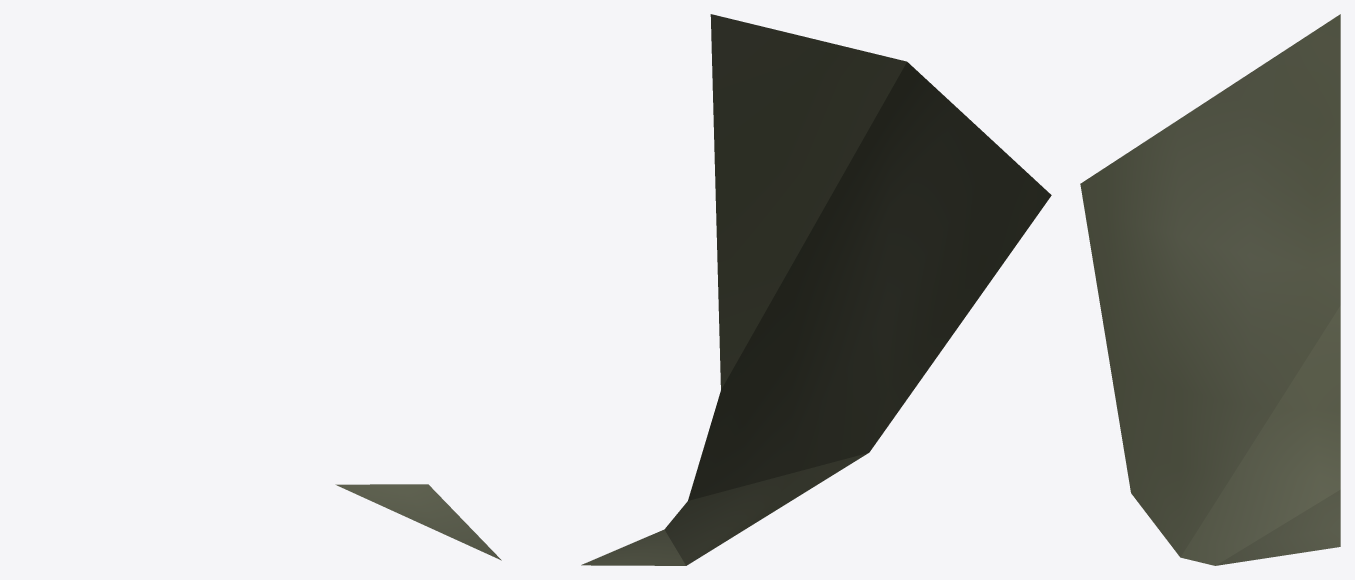
3 renders of one model, left to right at view 1: azimuth 30°, elevation 25°; view 2: azimuth 150°, elevation 25°; view 3: azimuth 270°, elevation 25°, orthographic. The views are drawn at different scales.
Size of the model in its own units: 0.5247 by 0.5961 by 0.3368.
Materials: 1 (1 with a texture image).
